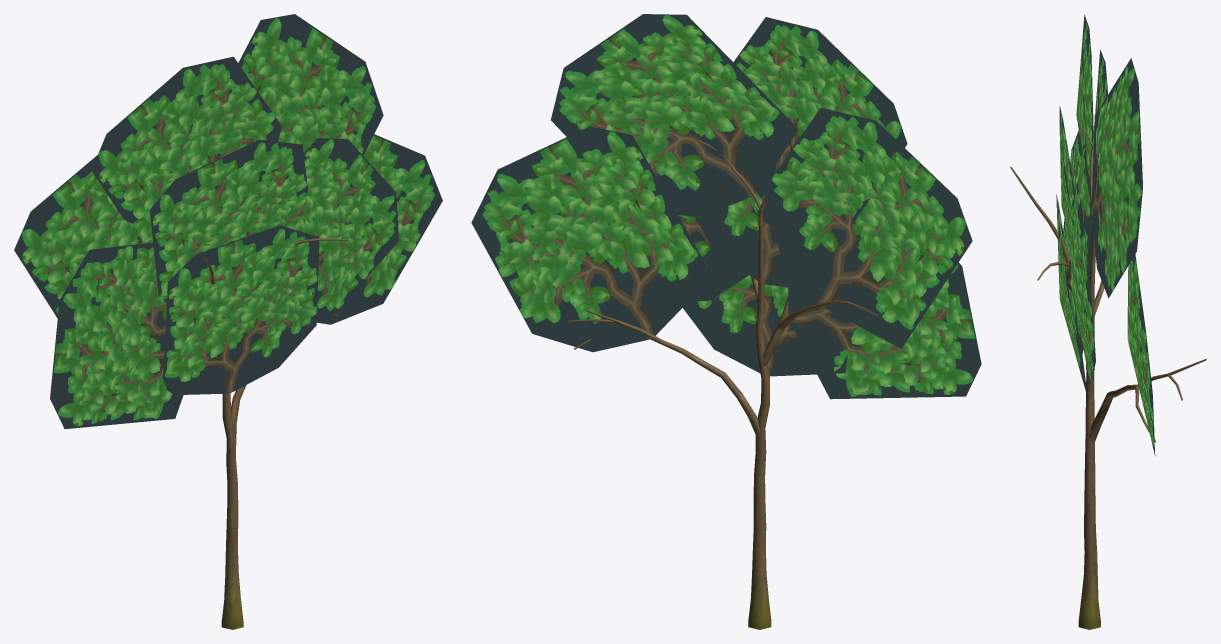
File: tree_background_01.fbx
3 views of the same model, side by side, from view 1: azimuth 30°, elevation 25°; view 2: azimuth 150°, elevation 25°; view 3: azimuth 270°, elevation 25° (orthographic). The views are drawn at different scales.
Parts seen in each view (by area): view 1: tree_background_01_leaves, tree_background_01; view 2: tree_background_01_leaves, tree_background_01; view 3: tree_background_01_leaves, tree_background_01.
Part boxes in pixels (box(x1,y1,x2,y2)): tree_background_01_leaves: box(14, 14, 442, 429); tree_background_01: box(201, 238, 348, 629); tree_background_01_leaves: box(471, 14, 981, 399); tree_background_01: box(568, 139, 878, 629); tree_background_01_leaves: box(1056, 14, 1155, 456); tree_background_01: box(1010, 129, 1206, 629).
Bounding box in the file's own units: 623 × 762 × 230.
